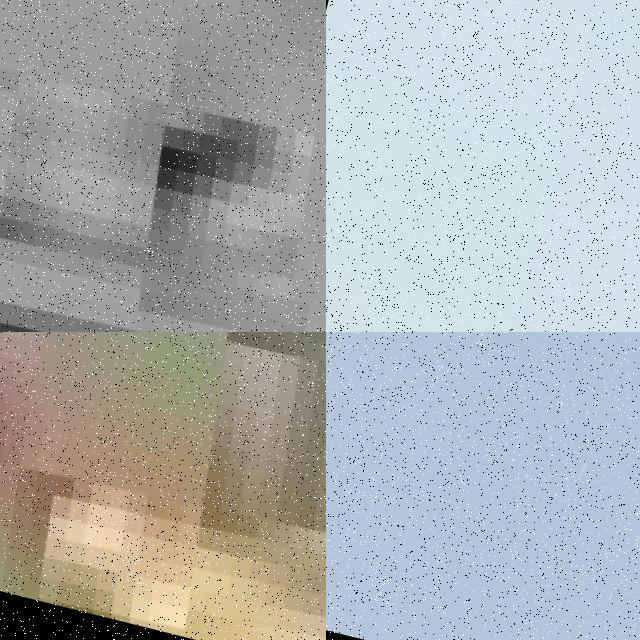drone: (0, 0, 326, 332), (0, 332, 326, 640)
